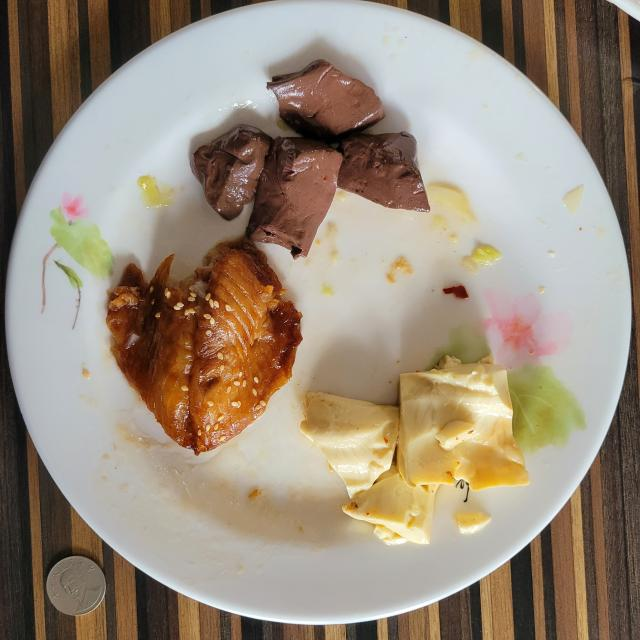Kabayaki sea bream fillet: (106, 239, 302, 454)
coin: (46, 556, 106, 615)
pig blood curd: (191, 60, 430, 259)
